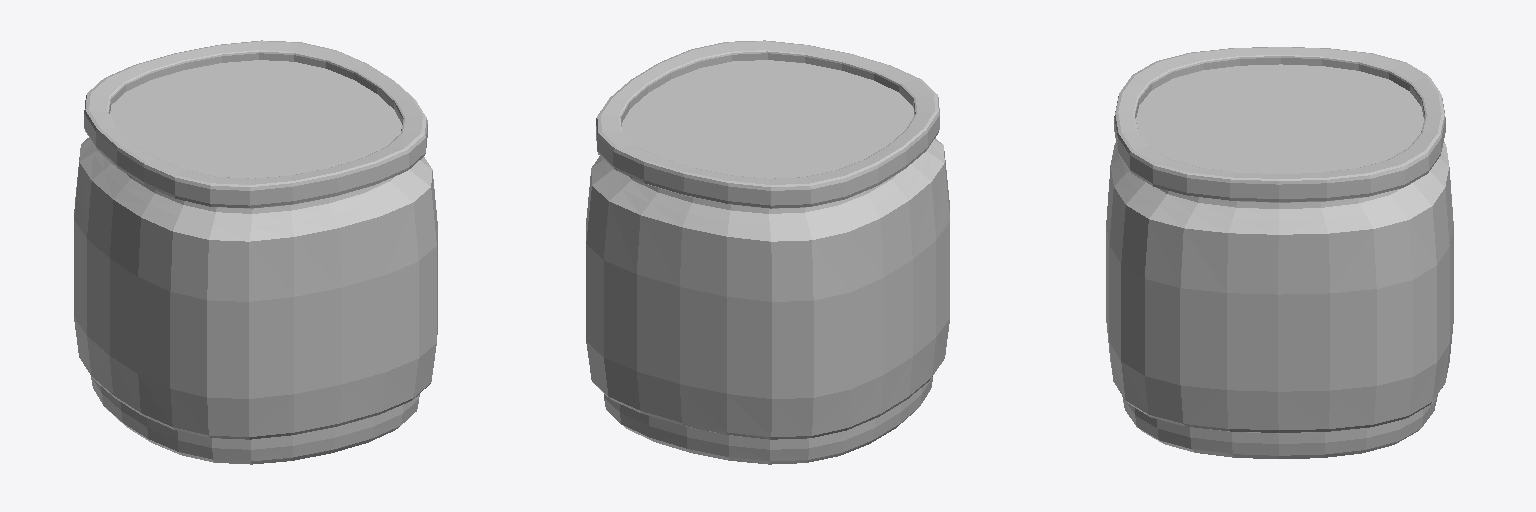
File: SodaCan.obj
3 views of the same model, side by side, from view 1: azimuth 30°, elevation 25°; view 2: azimuth 150°, elevation 25°; view 3: azimuth 270°, elevation 25° (orthographic).
Parts seen in each view (by area): view 1: Sodacan_01_low.001_Mesh.031; view 2: Sodacan_01_low.001_Mesh.031; view 3: Sodacan_01_low.001_Mesh.031.
Part boxes in pixels (bbox=[...]): Sodacan_01_low.001_Mesh.031: bbox=[74, 40, 437, 464]; Sodacan_01_low.001_Mesh.031: bbox=[586, 40, 949, 464]; Sodacan_01_low.001_Mesh.031: bbox=[1106, 47, 1453, 458].
Size of the model in its own units: 21.19 by 19.88 by 21.91.